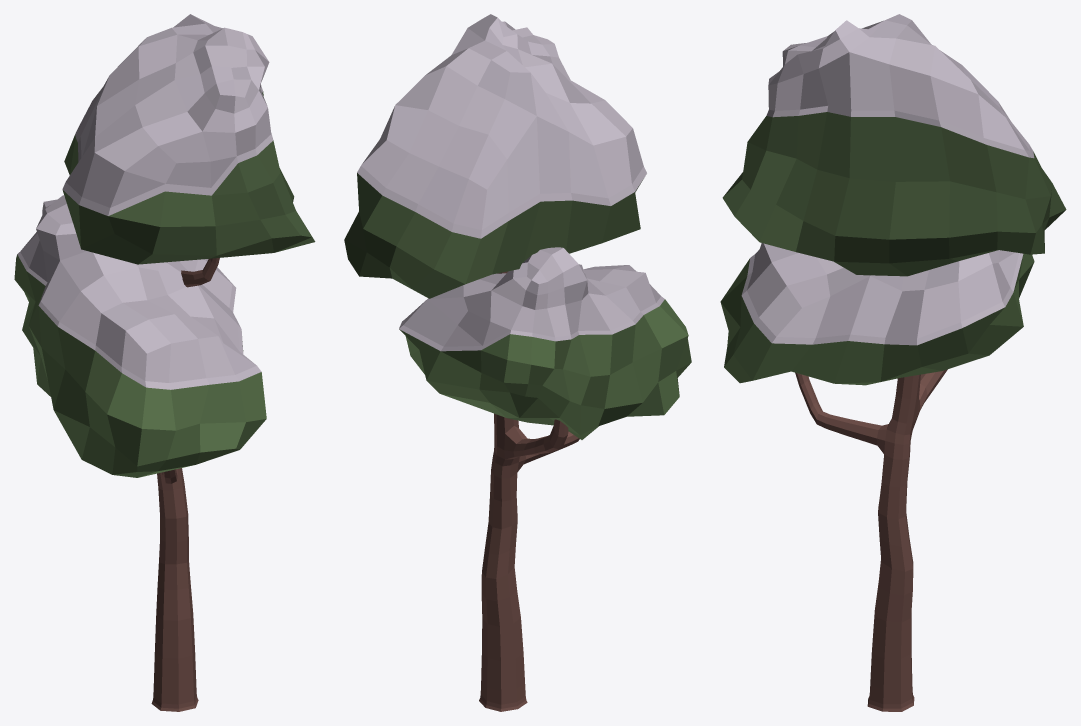
The model's file is commontree_snow_3.glb.
The picture shows the model from 3 angles, left to right: view 1: azimuth 30°, elevation 25°; view 2: azimuth 150°, elevation 25°; view 3: azimuth 270°, elevation 25°; orthographic projection. The views are drawn at different scales.
Visible parts, largest first — view 1: CommonTree_Snow_3; view 2: CommonTree_Snow_3; view 3: CommonTree_Snow_3.
Part boxes in pixels (x1=…): CommonTree_Snow_3: x1=14, y1=14, x2=315, y2=711; CommonTree_Snow_3: x1=344, y1=14, x2=691, y2=711; CommonTree_Snow_3: x1=720, y1=14, x2=1066, y2=711.
Bounding box in the file's own units: 3.06 × 8.34 × 3.75.
